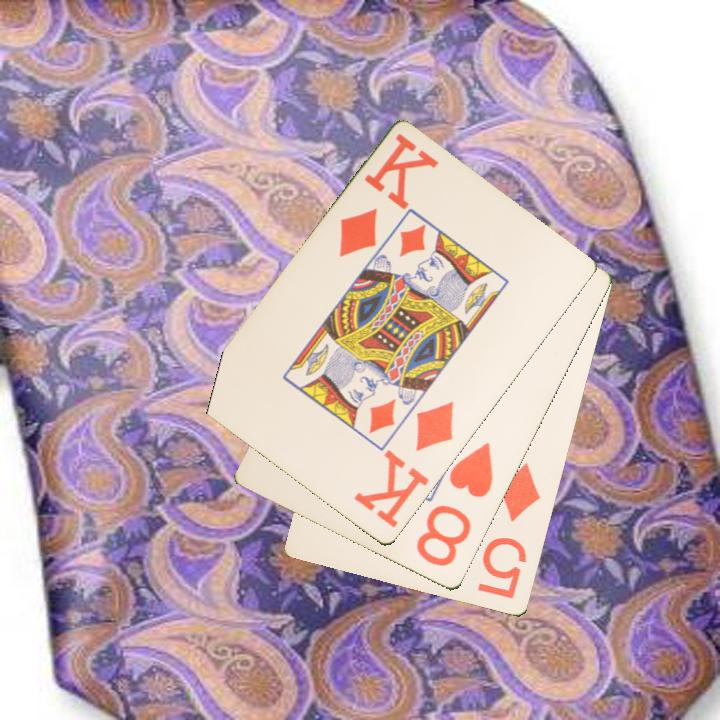5d: (474, 459, 544, 603)
8h: (413, 439, 496, 570)
Kd: (350, 398, 457, 532), (335, 129, 441, 261)
